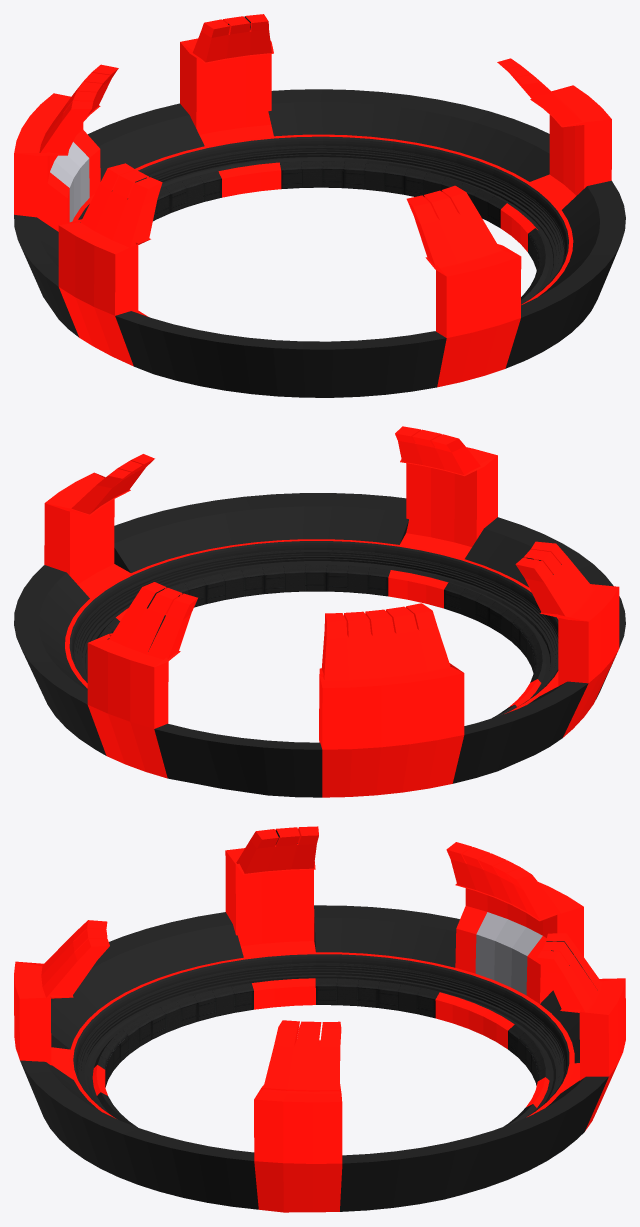
File: spacestadium.fbx
3 views of the same model, one above another, from view 1: azimuth 30°, elevation 25°; view 2: azimuth 150°, elevation 25°; view 3: azimuth 270°, elevation 25° (orthographic).
Parts seen in each view (by area): view 1: Cylinder; view 2: Cylinder; view 3: Cylinder.
Boxes of the visible parts, x1,y1,x2,y2 form: Cylinder: (14, 14, 625, 397); Cylinder: (14, 426, 625, 797); Cylinder: (14, 826, 625, 1212).
Size of the model in its own units: 1890 by 569 by 1890.
